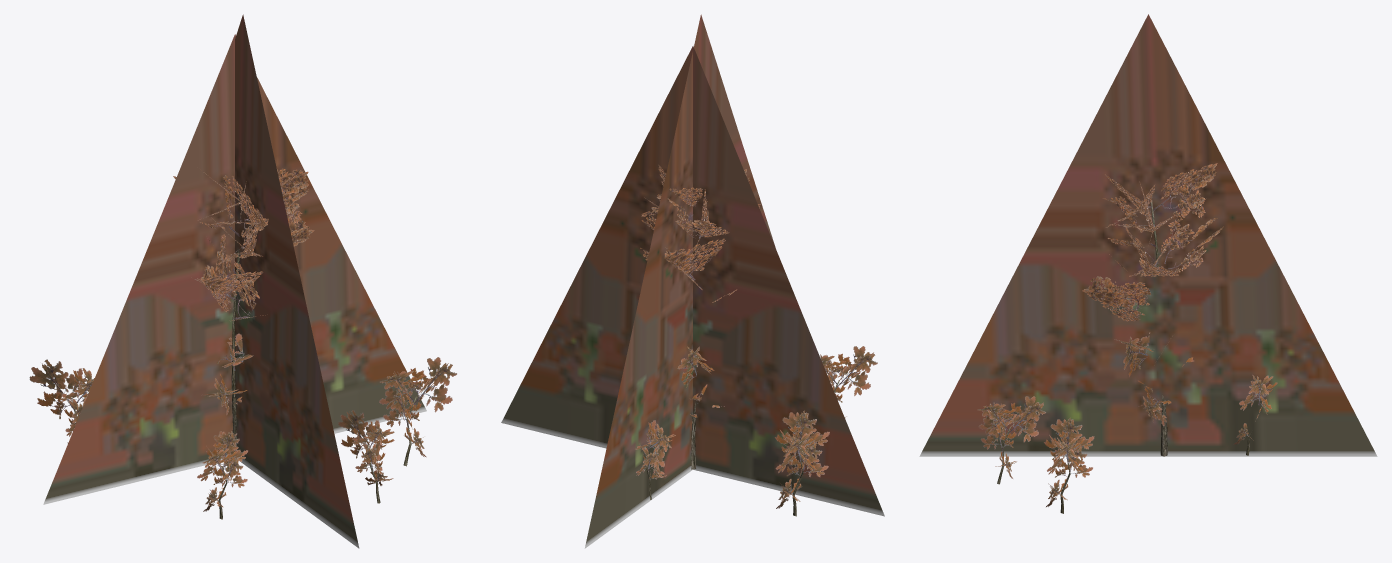
Rendered from Tree-Oak6C.fbx.
3 views of the same model, side by side, from view 1: azimuth 30°, elevation 25°; view 2: azimuth 150°, elevation 25°; view 3: azimuth 270°, elevation 25° (orthographic).
Parts seen in each view (by area): view 1: Billboard-Oak6B, Tree-Oak6C_LOD0; view 2: Billboard-Oak6B, Tree-Oak6C_LOD0; view 3: Billboard-Oak6B, Tree-Oak6C_LOD0.
Boxes of the visible parts, x1,y1,x2,y2 form: Billboard-Oak6B: [43, 14, 426, 548]; Tree-Oak6C_LOD0: [29, 168, 456, 519]; Billboard-Oak6B: [501, 14, 884, 548]; Tree-Oak6C_LOD0: [635, 165, 877, 516]; Billboard-Oak6B: [919, 14, 1377, 456]; Tree-Oak6C_LOD0: [977, 163, 1277, 513].
Size of what is drawn, in the model's own units: 1365 by 1528 by 1433.
